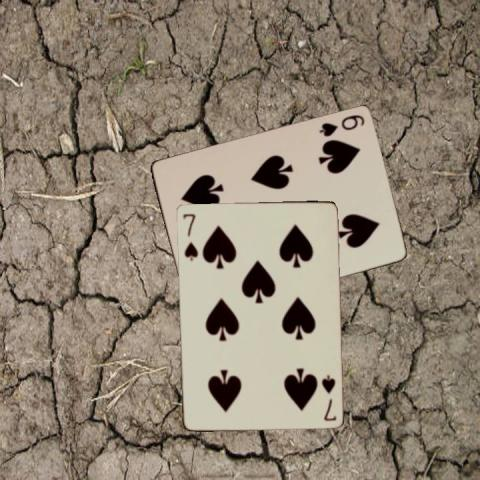6s: (316, 112, 366, 139)
7s: (180, 210, 199, 262), (319, 371, 337, 422)
